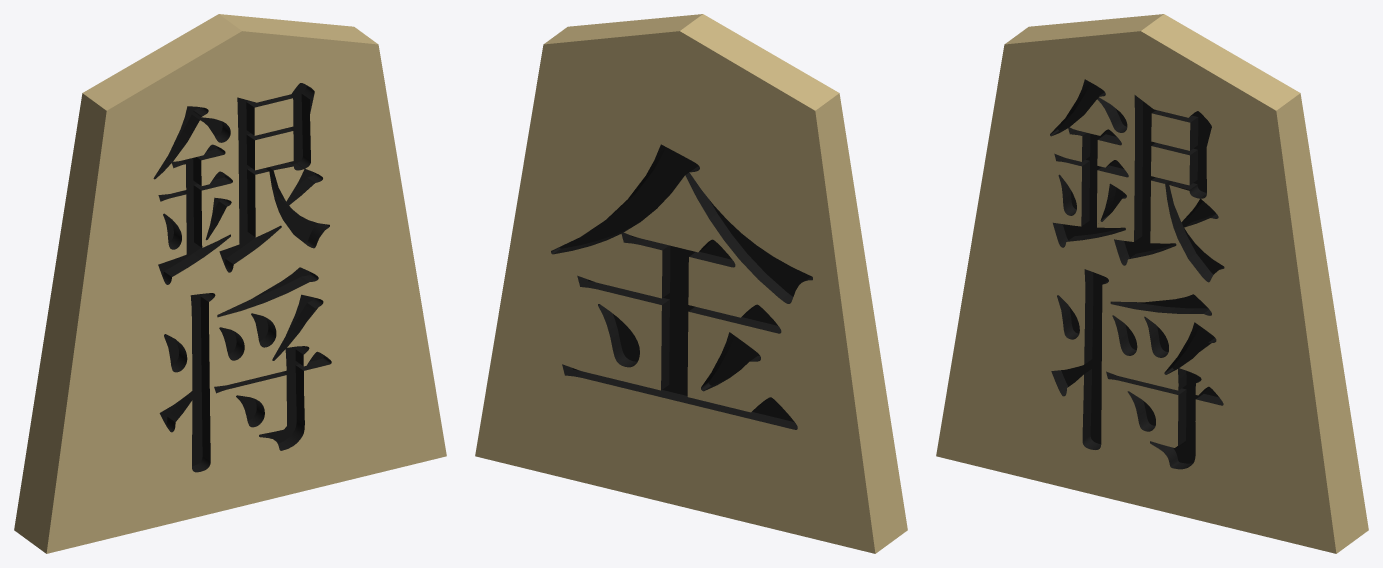
3 renders of one model, left to right at view 1: azimuth 30°, elevation 25°; view 2: azimuth 150°, elevation 25°; view 3: azimuth 330°, elevation 25°, orthographic.
Parts seen in each view (by area): view 1: gin; view 2: gin; view 3: gin.
Part boxes in pixels (left/top/right/bottom): gin: left=14, top=14, right=446, bottom=553; gin: left=475, top=14, right=907, bottom=553; gin: left=936, top=14, right=1368, bottom=553.
Bounding box in the file's own units: 0.0285 × 0.032 × 0.004.
